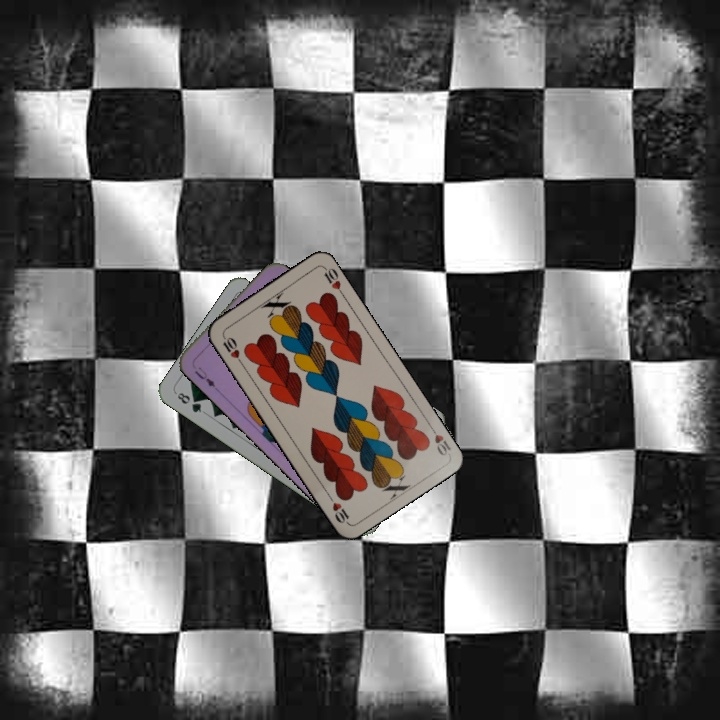EU: (191, 362, 218, 390)
G8: (173, 388, 204, 415)
H10: (425, 421, 454, 458), (218, 331, 246, 368)
